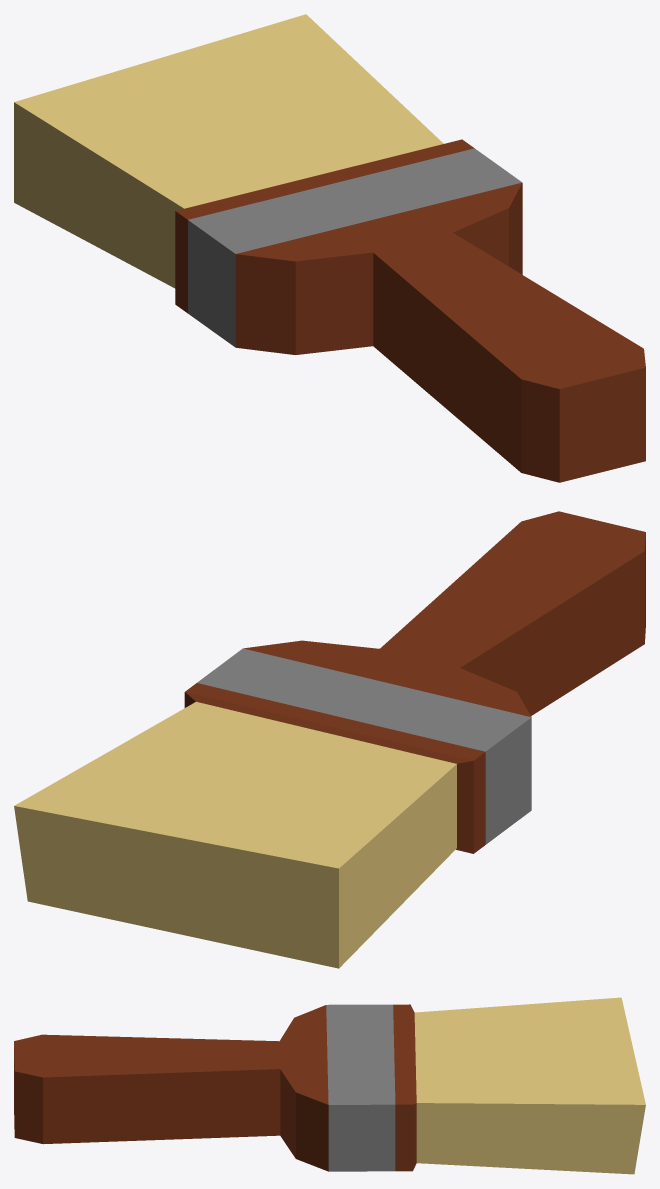
File: paintBrush.fbx
The picture shows the model from 3 angles, top to bottom: view 1: azimuth 30°, elevation 25°; view 2: azimuth 150°, elevation 25°; view 3: azimuth 270°, elevation 25°; orthographic projection. The views are drawn at different scales.
Parts seen in each view (by area): view 1: Paint Brush; view 2: Paint Brush; view 3: Paint Brush.
Boxes of the visible parts, box(x1,y1,x2,y2) form: Paint Brush: box(14, 14, 645, 482); Paint Brush: box(14, 511, 645, 968); Paint Brush: box(14, 997, 645, 1174).
Bounding box in the file's own units: 14.13 × 35.14 × 4.39.
